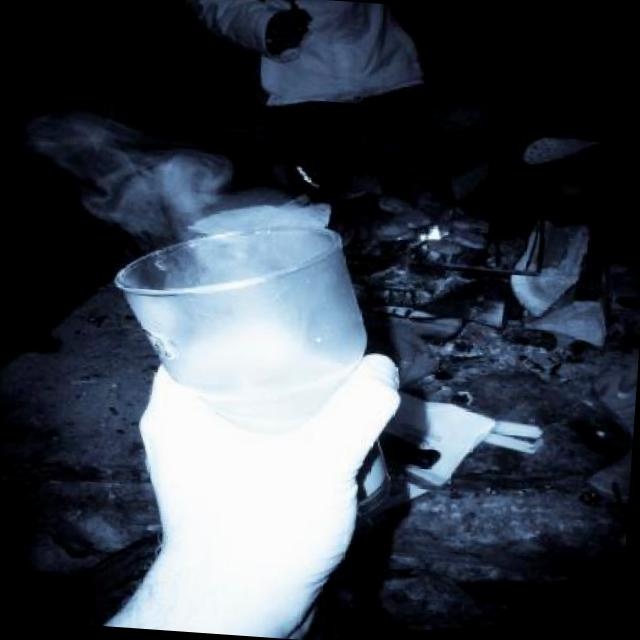Person: (88, 329, 419, 640), (206, 0, 447, 132)
